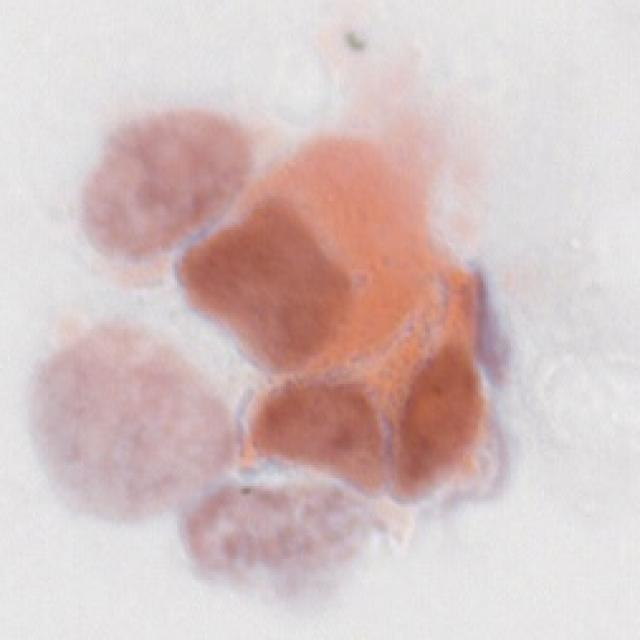cytoplasm: (160, 105, 481, 425), (174, 188, 373, 391)
